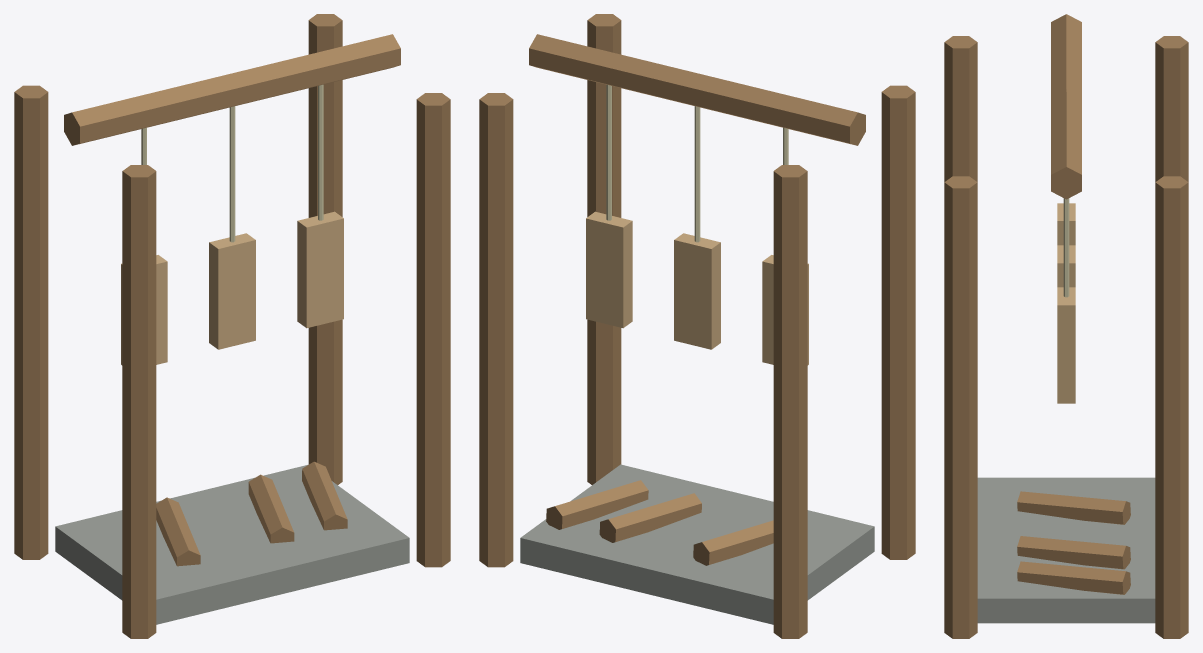
The model's file is campaign_smoker.glb.
3 renders of one model, left to right at view 1: azimuth 30°, elevation 25°; view 2: azimuth 150°, elevation 25°; view 3: azimuth 270°, elevation 25°, orthographic. The views are drawn at different scales.
Visible parts, largest first — view 1: campaign_smoker; view 2: campaign_smoker; view 3: campaign_smoker.
Boxes of the visible parts, x1=… form: campaign_smoker: x1=14, y1=14, x2=450, y2=638; campaign_smoker: x1=479, y1=14, x2=915, y2=638; campaign_smoker: x1=944, y1=14, x2=1188, y2=638.
Size of the model in its own units: 1.2 by 1.73 by 0.81.
